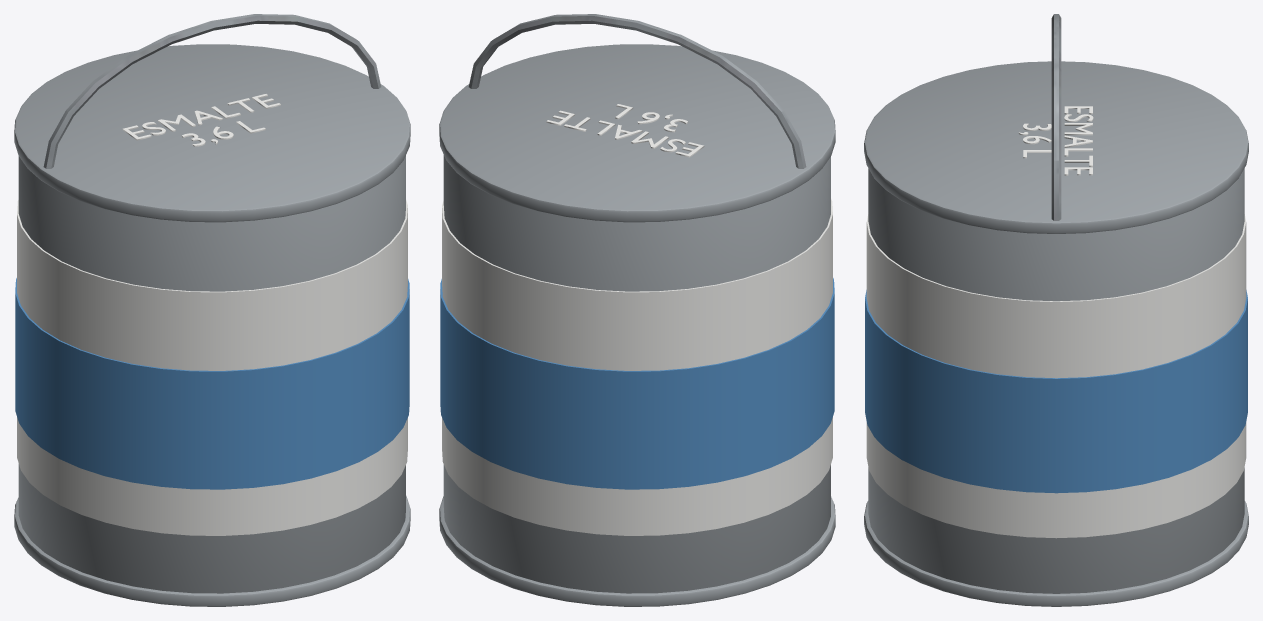
The model's file is PIN-TIN-004_anim.glb.
3 views of the same model, side by side, from view 1: azimuth 30°, elevation 25°; view 2: azimuth 150°, elevation 25°; view 3: azimuth 270°, elevation 25° (orthographic). The views are drawn at different scales.
Visible parts, largest first — view 1: PIN-TIN-004_anim0; view 2: PIN-TIN-004_anim0; view 3: PIN-TIN-004_anim0.
Boxes of the visible parts, x1=… form: PIN-TIN-004_anim0: x1=14, y1=14, x2=410, y2=606; PIN-TIN-004_anim0: x1=439, y1=14, x2=835, y2=606; PIN-TIN-004_anim0: x1=864, y1=14, x2=1248, y2=606.
Size of the model in its own units: 0.000174 by 0.000243 by 0.000174.
Materials: 4 (1 with a texture image).
